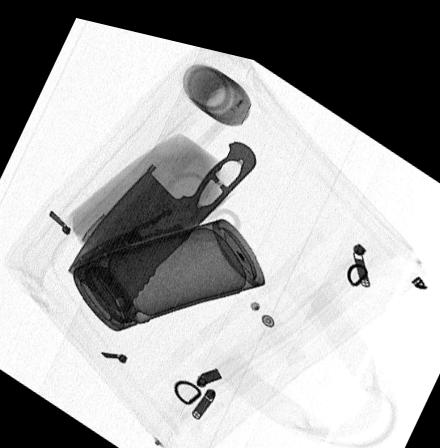Knife: (68, 129, 257, 305)
Scissors: (73, 161, 242, 263)
